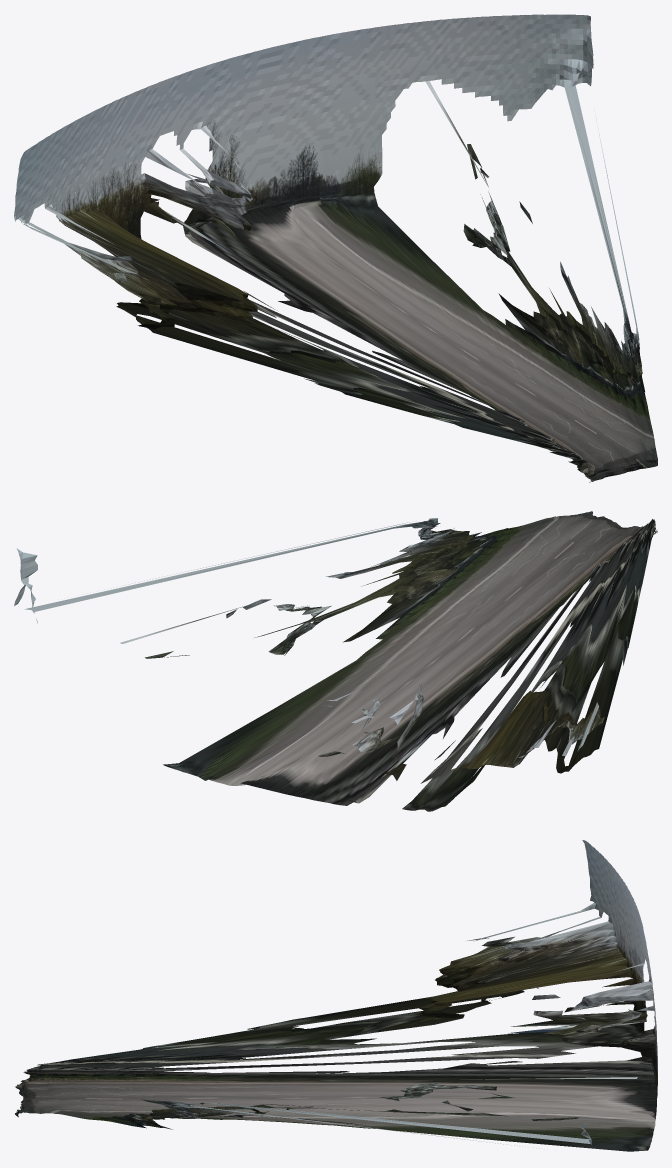
3 renders of one model, top to bottom at view 1: azimuth 30°, elevation 25°; view 2: azimuth 150°, elevation 25°; view 3: azimuth 270°, elevation 25°, orthographic. The views are drawn at different scales.
Visible parts, largest first — view 1: defaultobject; view 2: defaultobject; view 3: defaultobject.
Boxes of the visible parts, <box> form: defaultobject: <box>14,14,657,482</box>; defaultobject: <box>14,511,657,811</box>; defaultobject: <box>15,840,657,1151</box>.
Bounding box in the file's own units: 40.81 × 12.06 × 44.62.
Materials: 1 (1 with a texture image).
